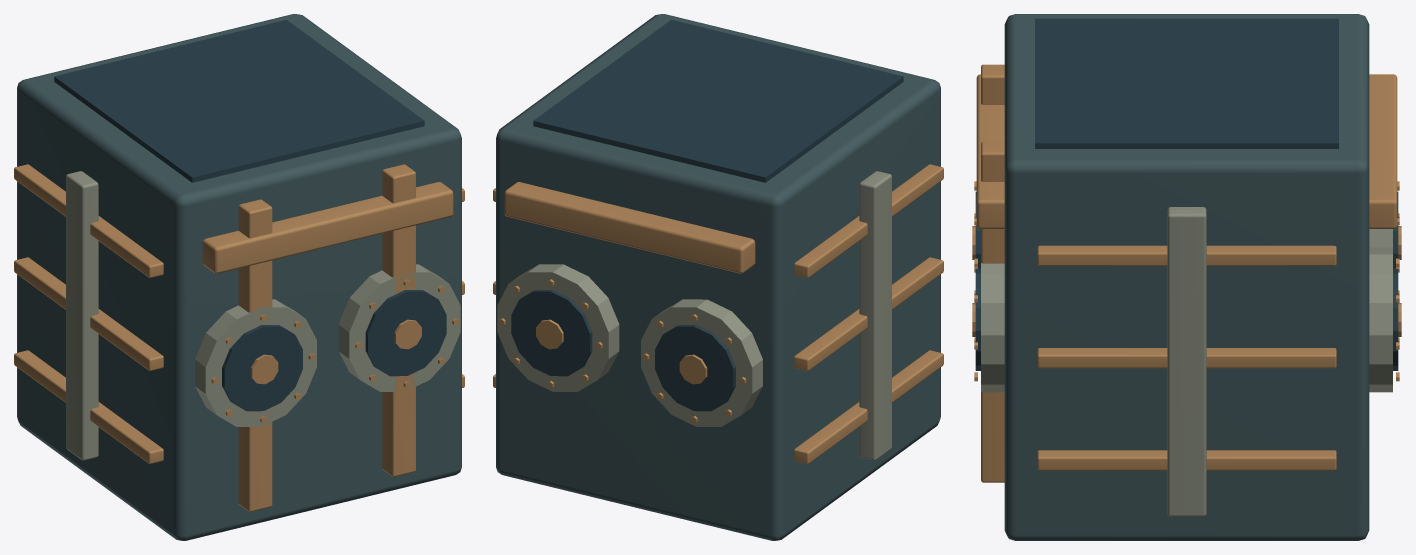
The model's file is pump-shaft-0.glb.
The picture shows the model from 3 angles, left to right: view 1: azimuth 30°, elevation 25°; view 2: azimuth 150°, elevation 25°; view 3: azimuth 270°, elevation 25°; orthographic projection. The views are drawn at different scales.
Visible parts, largest first — view 1: pump_0, pump_2, pump_3, pump_1; view 2: pump_0, pump_2, pump_1, pump_3; view 3: pump_0, pump_2, pump_3, pump_1.
Part boxes in pixels (x1=…): pump_0: x1=17, y1=14, x2=461, y2=540; pump_2: x1=54, y1=20, x2=446, y2=411; pump_3: x1=14, y1=164, x2=464, y2=511; pump_1: x1=66, y1=171, x2=460, y2=460; pump_0: x1=496, y1=14, x2=940, y2=540; pump_2: x1=511, y1=20, x2=903, y2=411; pump_1: x1=497, y1=171, x2=891, y2=460; pump_3: x1=493, y1=164, x2=943, y2=463; pump_0: x1=1004, y1=14, x2=1369, y2=540; pump_2: x1=975, y1=18, x2=1398, y2=370; pump_3: x1=972, y1=64, x2=1401, y2=482; pump_1: x1=981, y1=207, x2=1392, y2=516.
Size of the model in its own units: 0.97 by 1 by 0.99.
